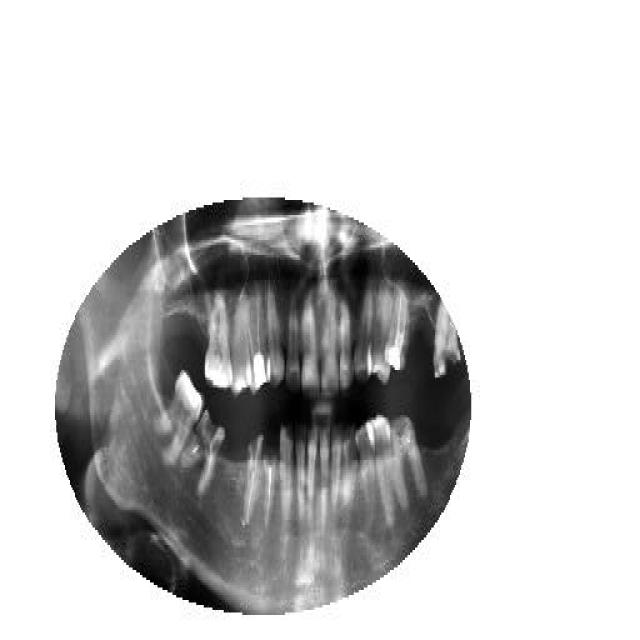Cavity: (180, 408, 226, 498), (388, 410, 428, 512), (242, 430, 264, 528), (432, 302, 460, 378), (279, 418, 295, 520), (262, 440, 278, 532)
Fillings: (200, 285, 232, 390)
Implant: (245, 283, 270, 395), (385, 288, 410, 372)
